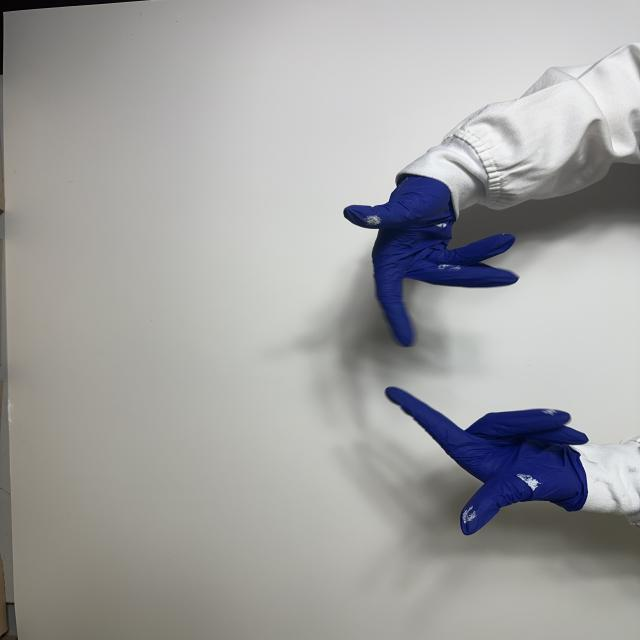gloves_contaminated: (344, 177, 518, 346), (387, 388, 587, 534)
